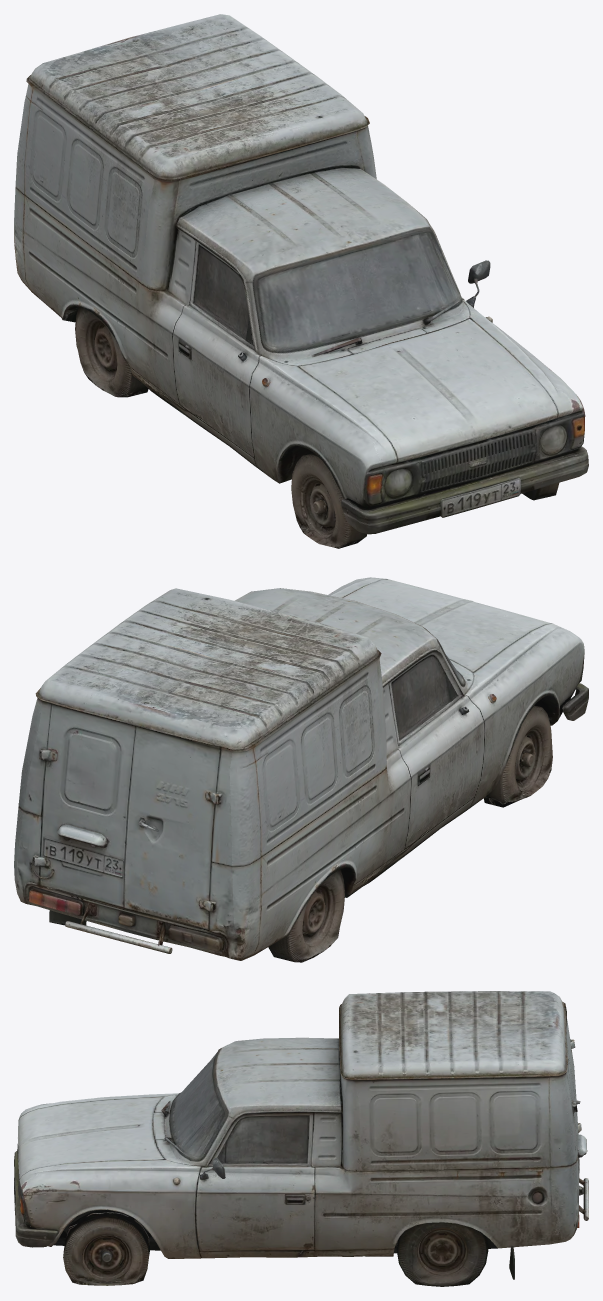
File: car_pirozhok.glb
3 renders of one model, top to bottom at view 1: azimuth 30°, elevation 25°; view 2: azimuth 150°, elevation 25°; view 3: azimuth 270°, elevation 25°, orthographic. The views are drawn at different scales.
Visible parts, largest first — view 1: Pirozhok001_Material #23_0; view 2: Pirozhok001_Material #23_0; view 3: Pirozhok001_Material #23_0.
Boxes of the visible parts, bbox=[...] form: Pirozhok001_Material #23_0: bbox=[14, 14, 588, 548]; Pirozhok001_Material #23_0: bbox=[14, 577, 588, 962]; Pirozhok001_Material #23_0: bbox=[14, 991, 588, 1286].
Size of the model in its own units: 68.04 by 67.3 by 162.
1 material, 1 textured.
